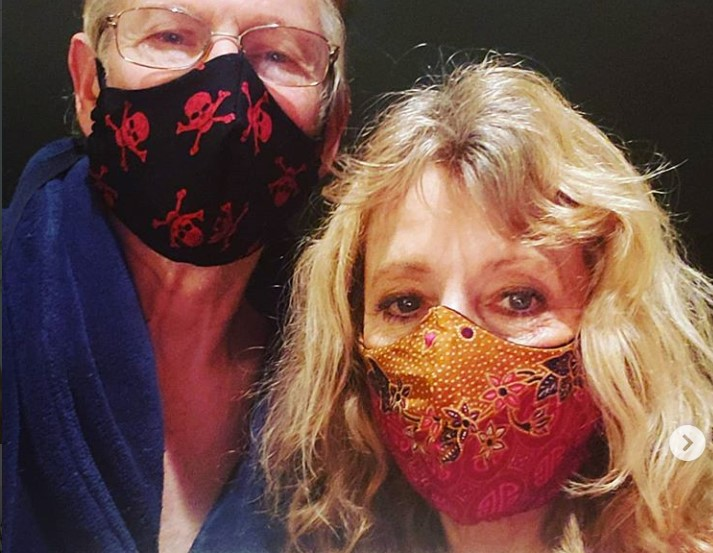face_with_mask: (336, 138, 640, 530), (69, 5, 353, 264)
